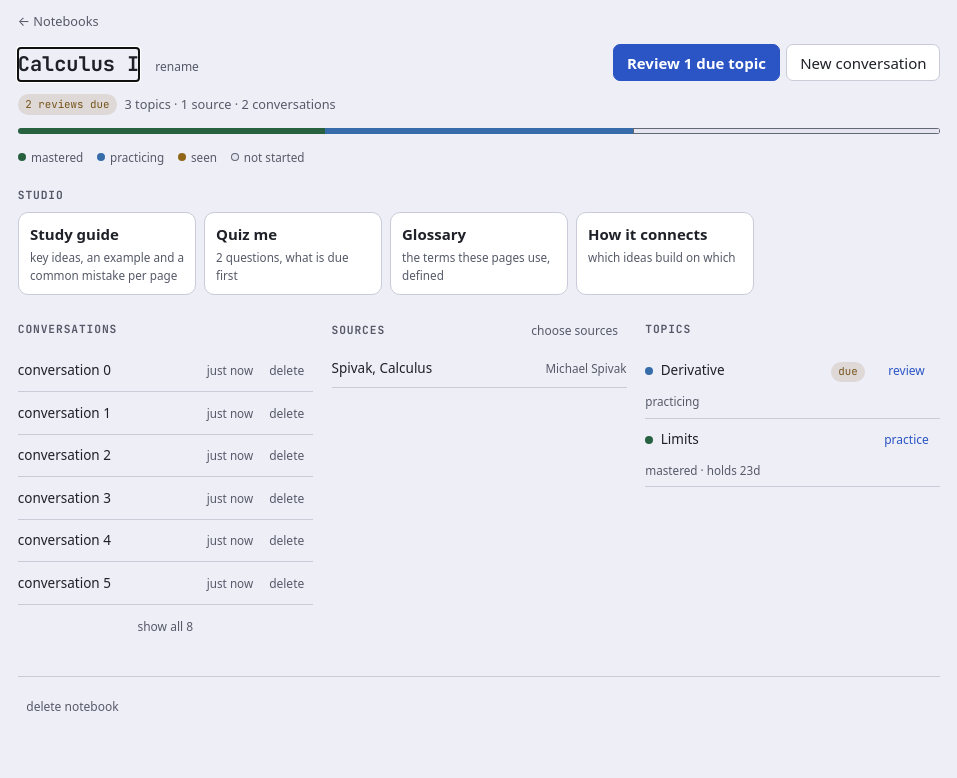
Test case: NotebookView › shows the six most recent conversations, and all of them on request
Step 1. Click the button "show all 8" → (165, 626), box top-left (18, 612), bottom-right (313, 640)
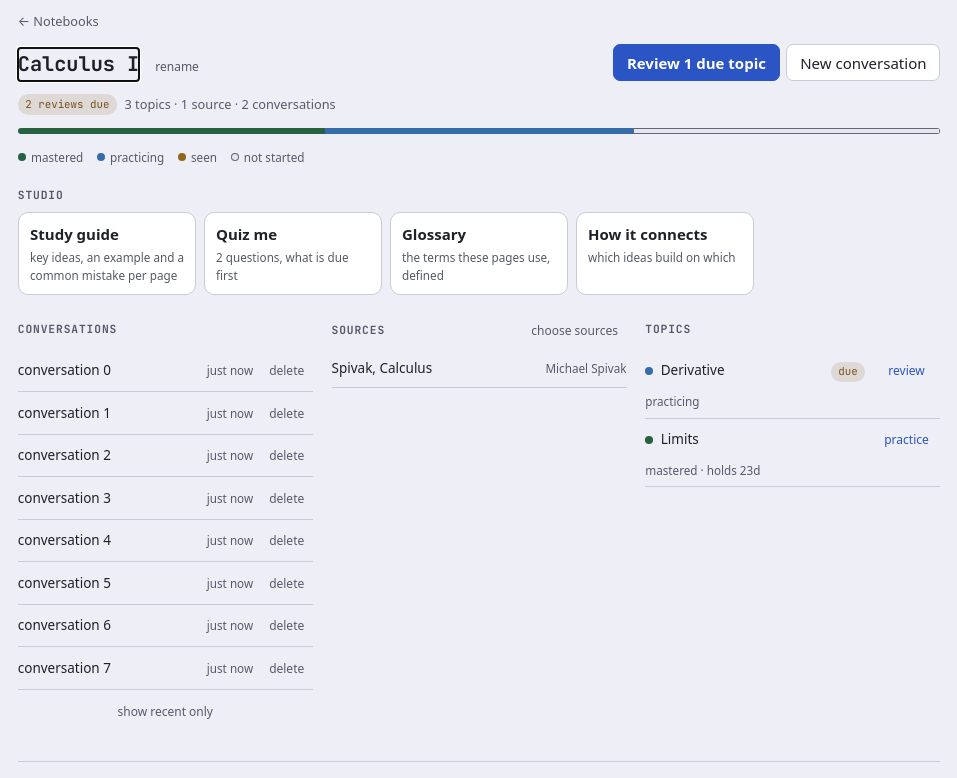
Expected: the button "show recent only" is expanded, top-left (18, 697), bottom-right (313, 725)
